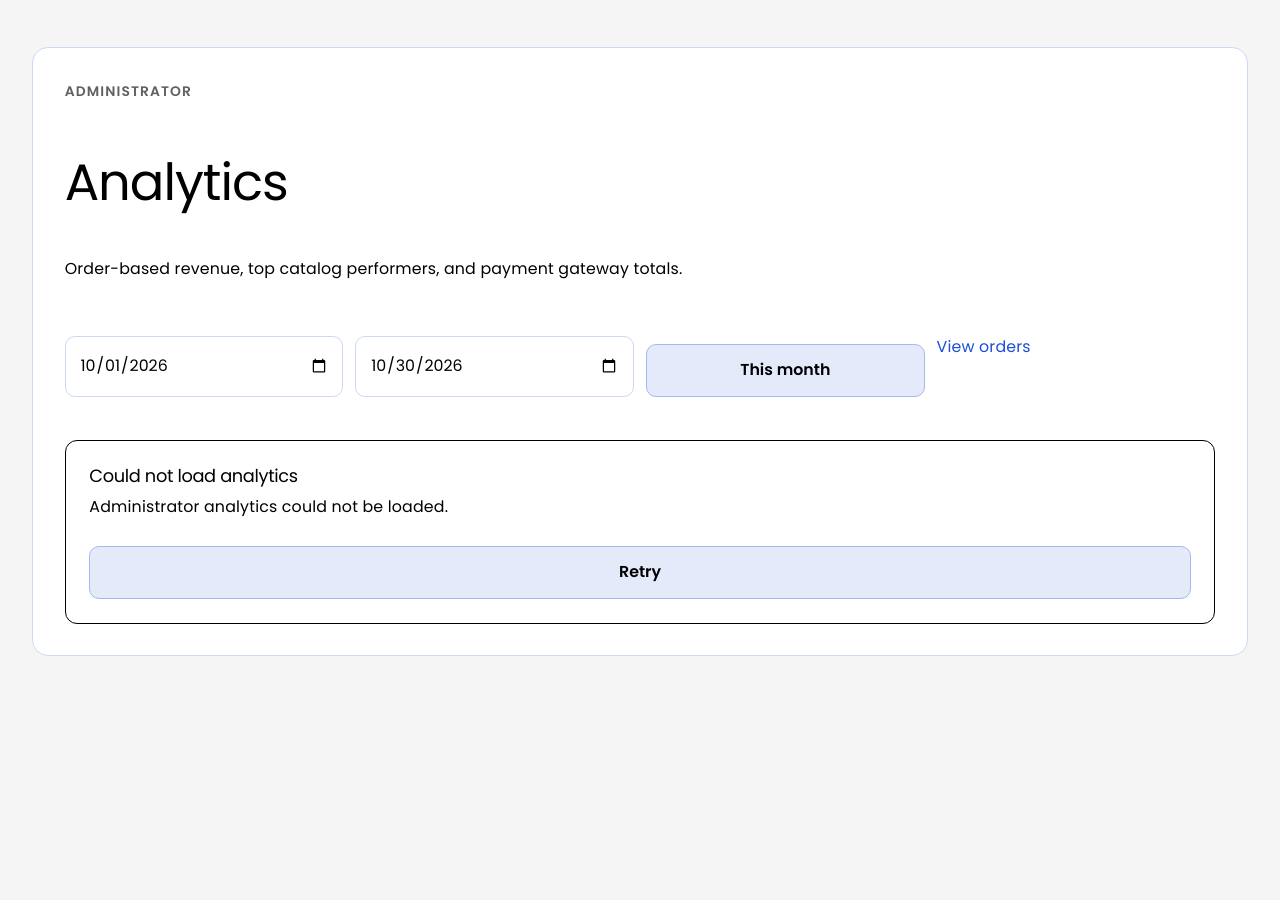
Test: AdminAnalyticsPage › shows error state with retry
Check: the heading "Could not load analytics" is shown, box [89,463,298,488]
Click the button "Retry": (640, 573) [89,546,1191,599]
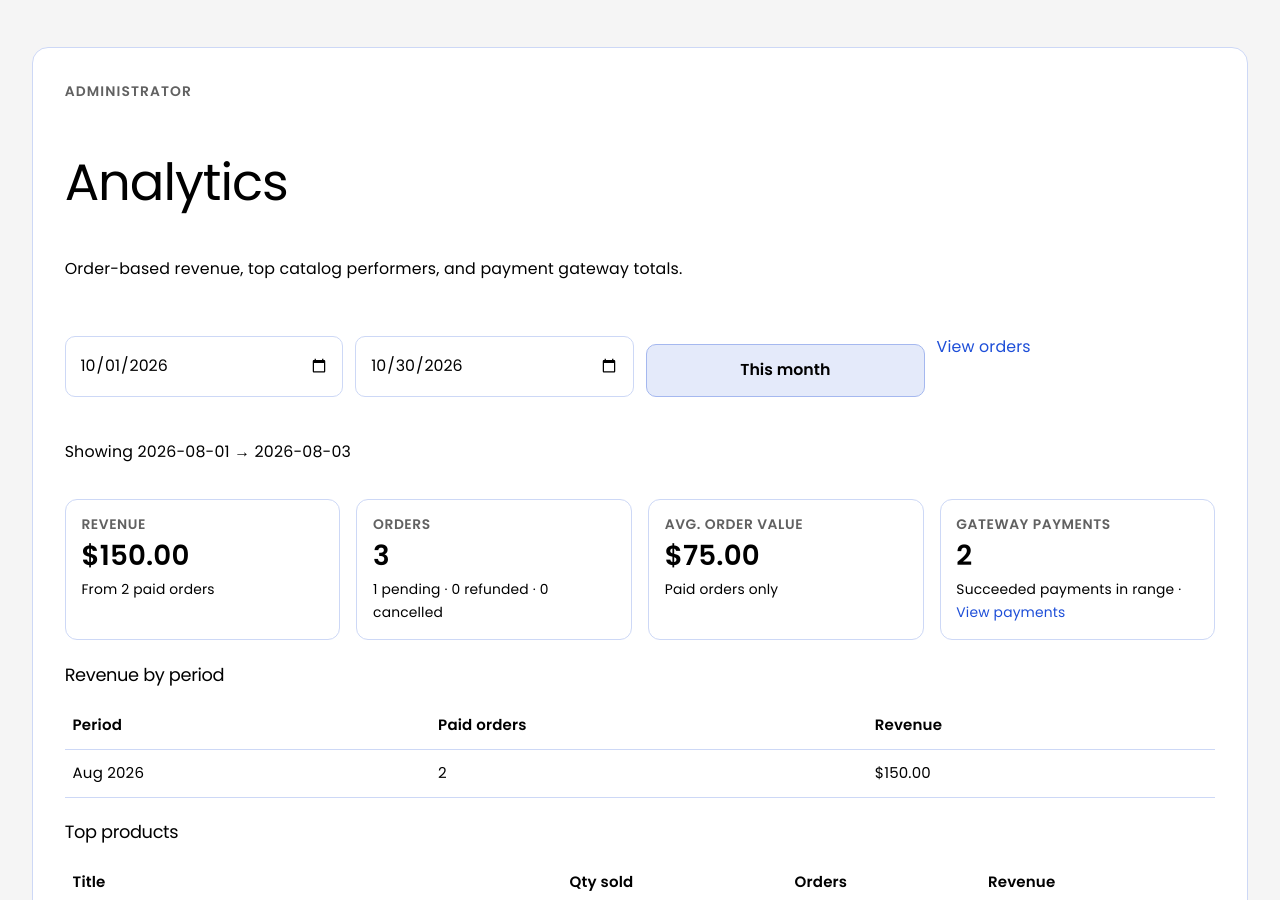
Check: the text "From 2 paid orders" is shown, box [82,579,215,599]
